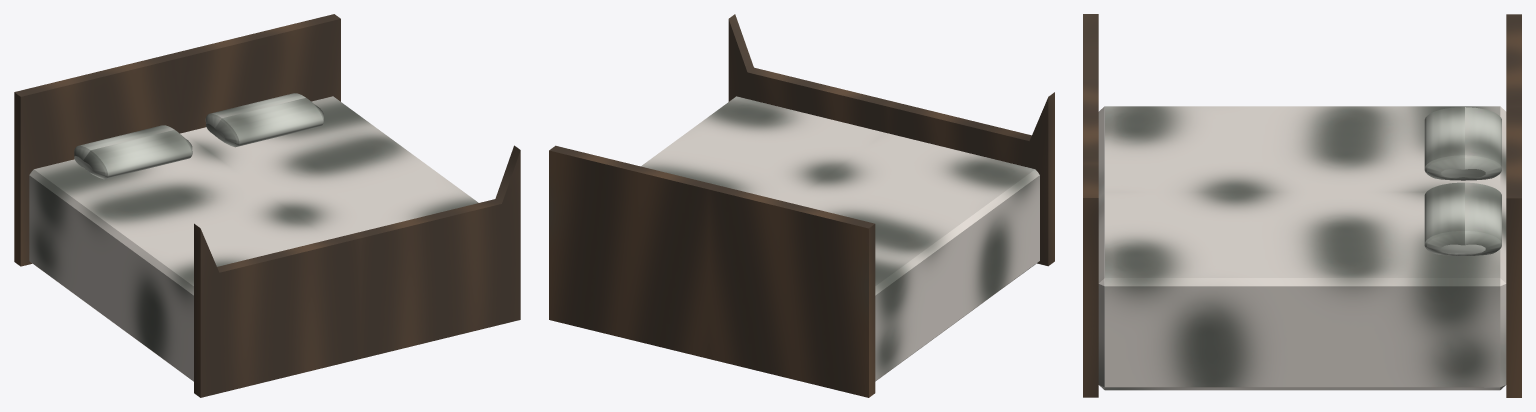
File: Bed2.fbx
The picture shows the model from 3 angles, left to right: view 1: azimuth 30°, elevation 25°; view 2: azimuth 150°, elevation 25°; view 3: azimuth 270°, elevation 25°; orthographic projection. The views are drawn at different scales.
Visible parts, largest first — view 1: pCylinder2; view 2: pCylinder2; view 3: pCylinder2.
Boxes of the visible parts, x1=… form: pCylinder2: x1=14, y1=14, x2=520, y2=397; pCylinder2: x1=549, y1=14, x2=1054, y2=397; pCylinder2: x1=1083, y1=14, x2=1521, y2=397.
Bounding box in the file's own units: 210 × 107 × 212.
